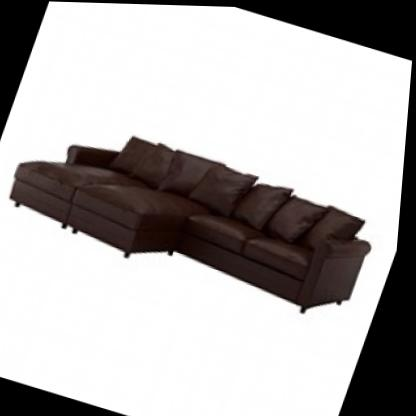Sofa: (0, 70, 404, 356)
